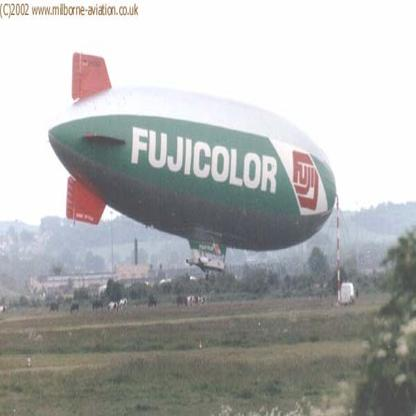Airship: (45, 51, 338, 277)
